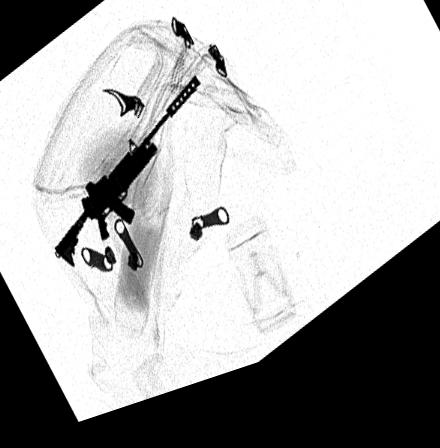Gun: (50, 88, 201, 276)
